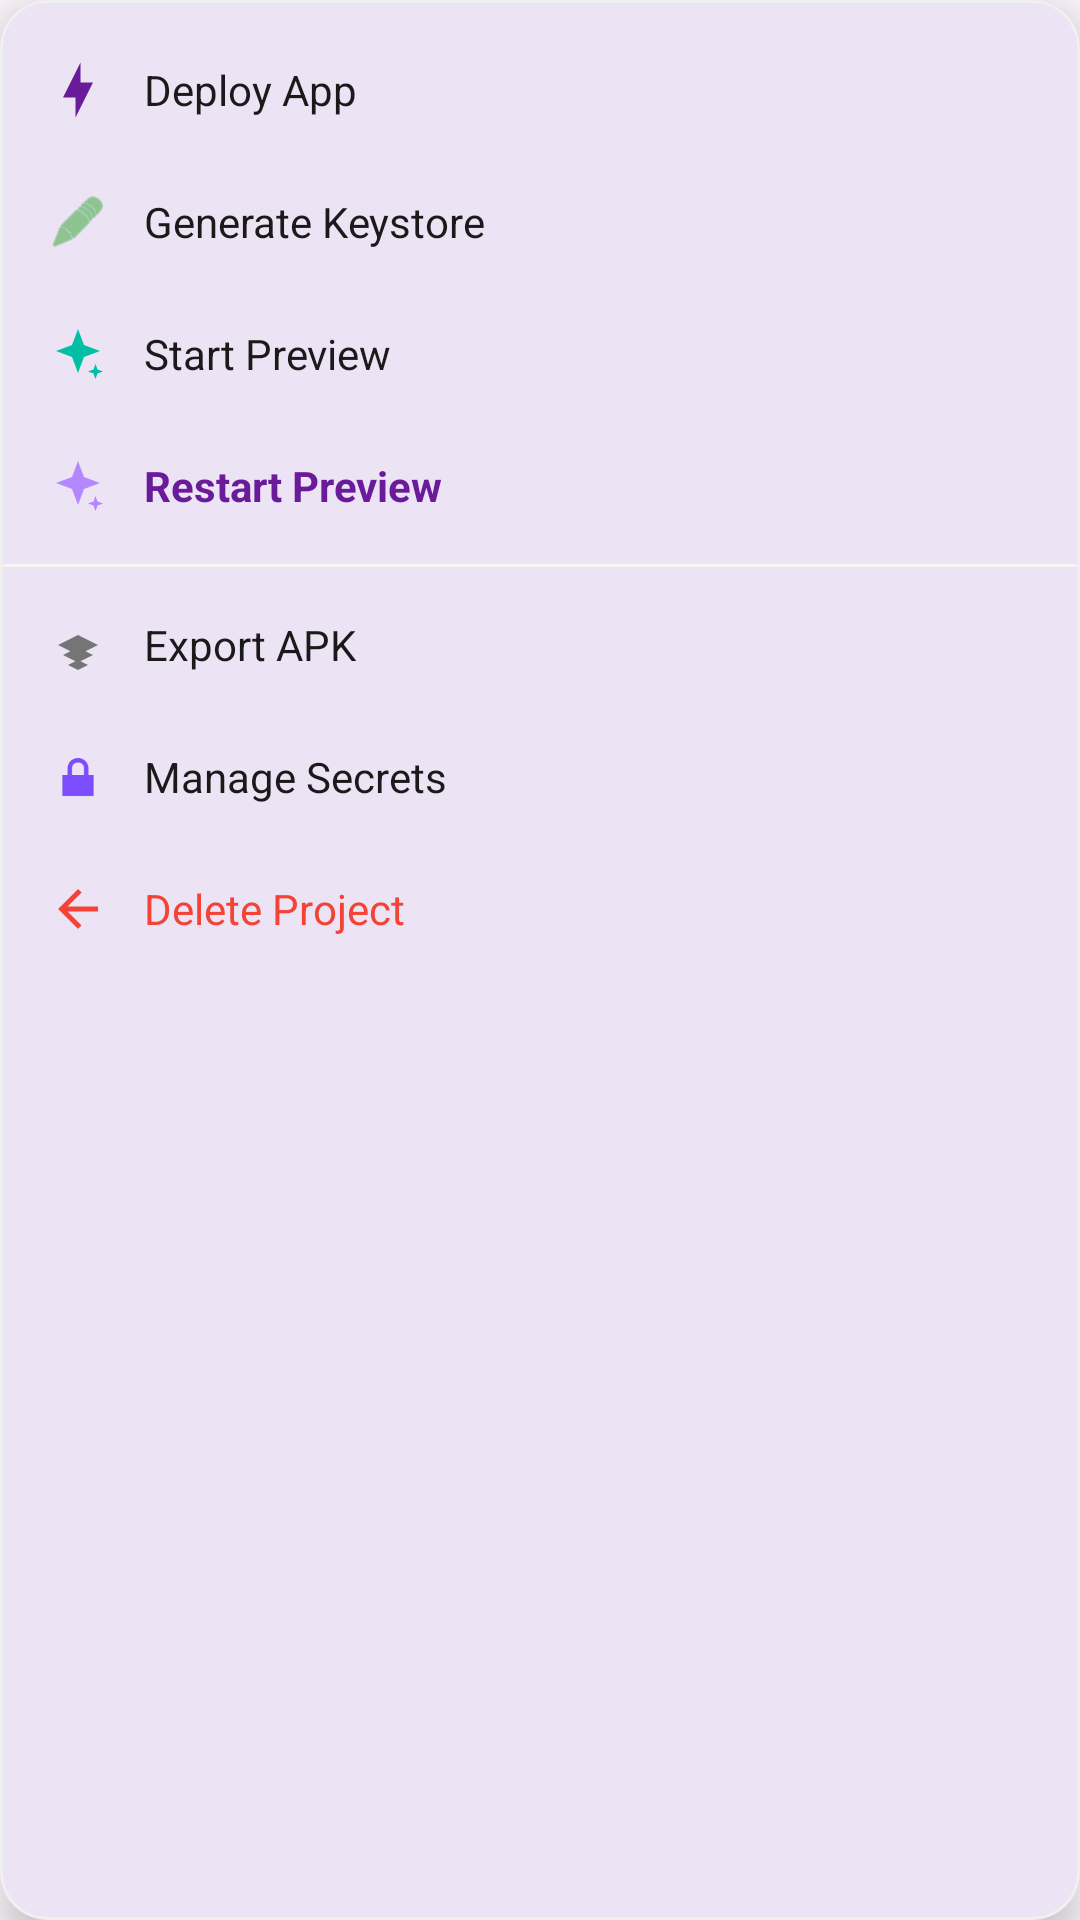

Screen size 1080w x 1920h. Icon name, then its box in pixels as region(x1, y1, x2, y2):
back: region(58, 889, 98, 929)
bolt: region(63, 63, 93, 117)
edit: region(52, 196, 103, 247)
layers: region(58, 635, 98, 670)
lock: region(62, 758, 94, 796)
sparkle: region(56, 329, 103, 379), region(57, 462, 103, 511)
